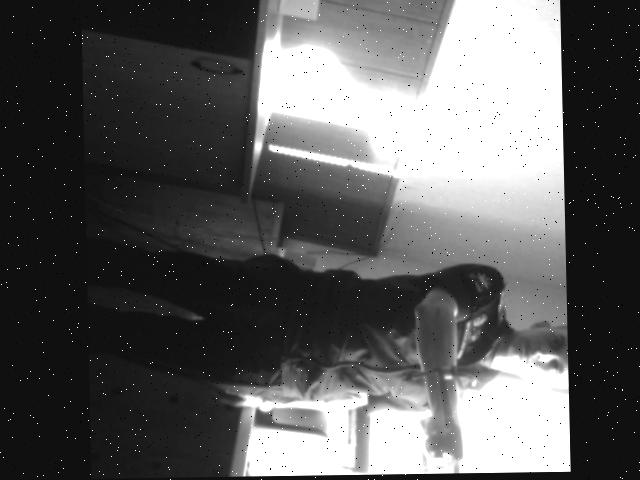drone: (396, 354, 501, 475)
